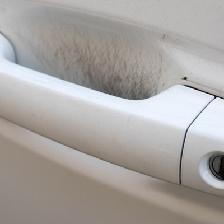scrach: (4, 4, 194, 183)
